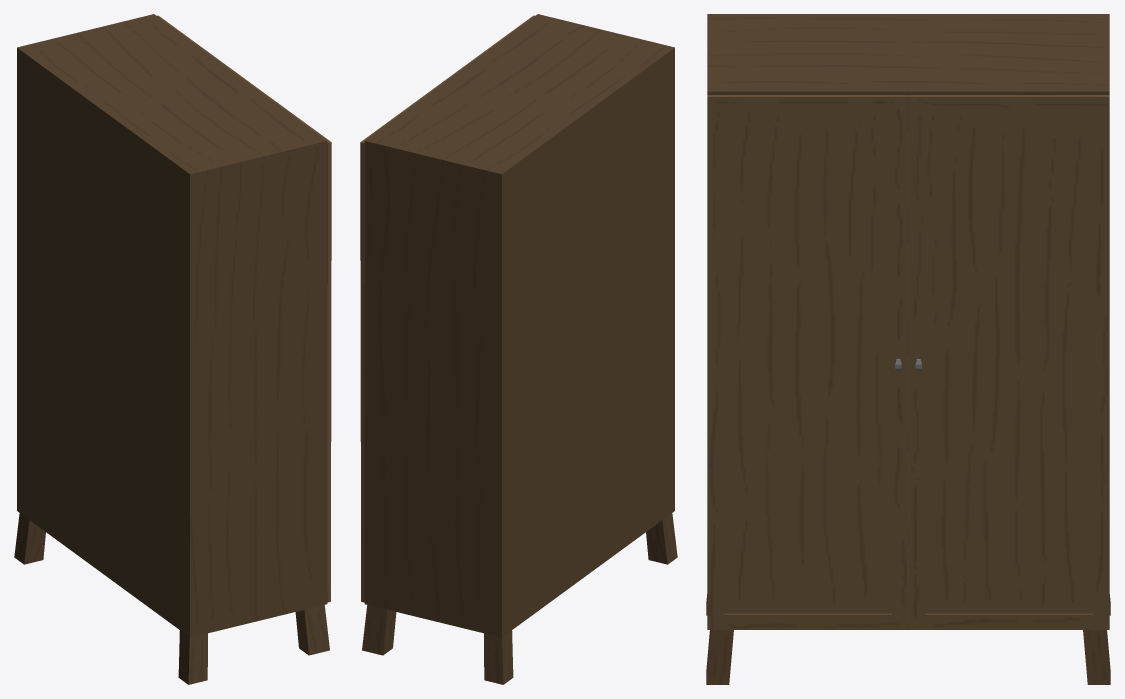
The model's file is Wardrobe4.fbx.
3 views of the same model, side by side, from view 1: azimuth 30°, elevation 25°; view 2: azimuth 150°, elevation 25°; view 3: azimuth 270°, elevation 25° (orthographic). The views are drawn at different scales.
Visible parts, largest first — view 1: wardrobe4.001; view 2: wardrobe4.001; view 3: wardrobe4.001.
Part boxes in pixels (x1=…): wardrobe4.001: x1=14, y1=14, x2=331, y2=684; wardrobe4.001: x1=360, y1=14, x2=677, y2=684; wardrobe4.001: x1=706, y1=14, x2=1110, y2=684.
Bounding box in the file's own units: 67.96 × 223 × 138.
Materials: 1 (1 with a texture image).
